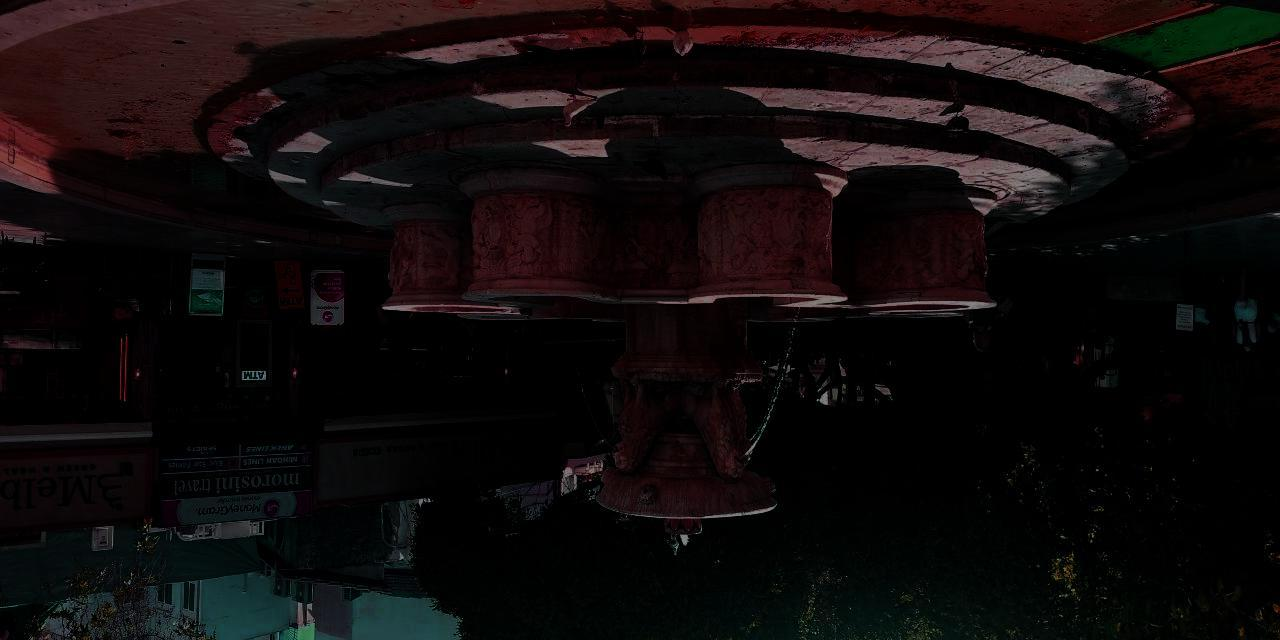Liontaria: (383, 170, 997, 534)
